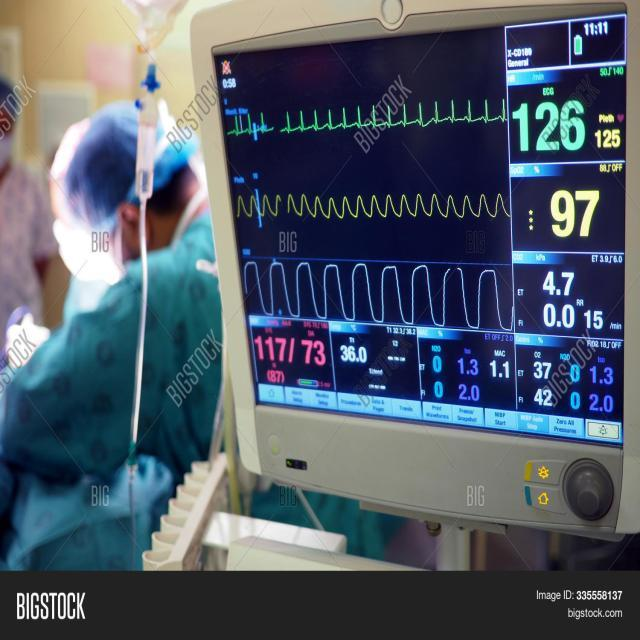Monitor: (197, 2, 632, 540)
